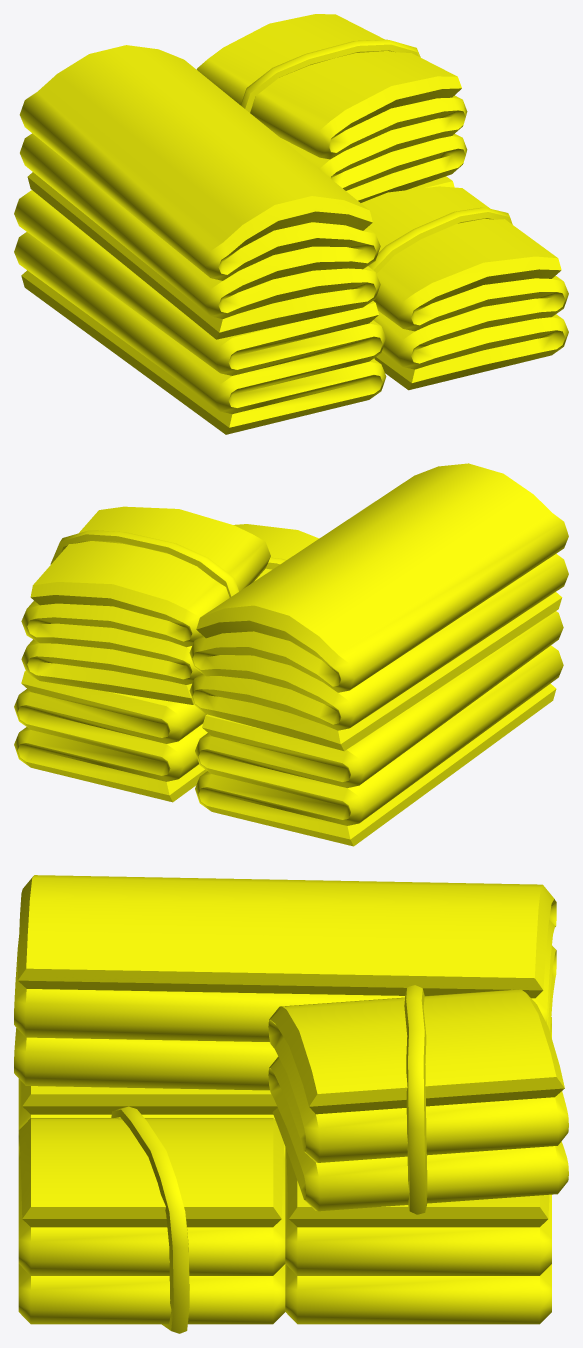
File: kaykit-textiles-stack-large.glb
The picture shows the model from 3 angles, top to bottom: view 1: azimuth 30°, elevation 25°; view 2: azimuth 150°, elevation 25°; view 3: azimuth 270°, elevation 25°; orthographic projection. The views are drawn at different scales.
Visible parts, largest first — view 1: Textiles_Stack_Large; view 2: Textiles_Stack_Large; view 3: Textiles_Stack_Large.
Boxes of the visible parts, x1,y1,x2,y2 form: Textiles_Stack_Large: (14,14,568,434); Textiles_Stack_Large: (14,463,568,846); Textiles_Stack_Large: (14,875,568,1333).
Bounding box in the file's own units: 1.64 × 0.9556 × 1.66.
